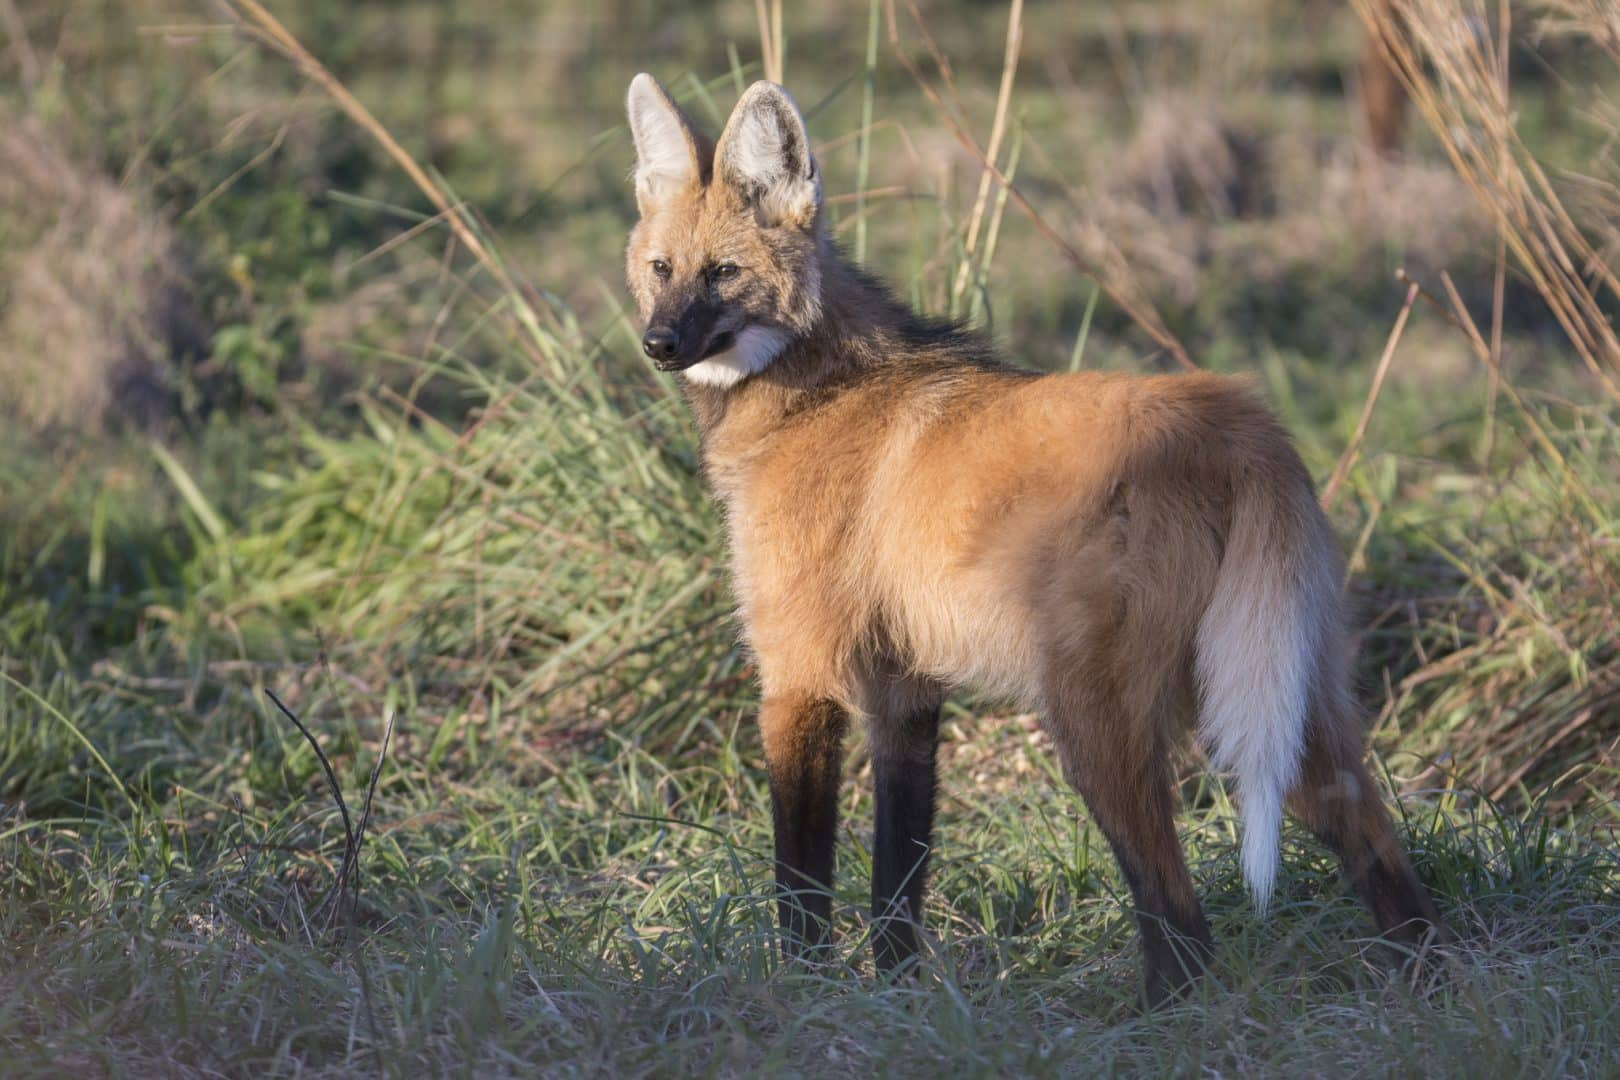LoboGuara: (601, 55, 1450, 984)
